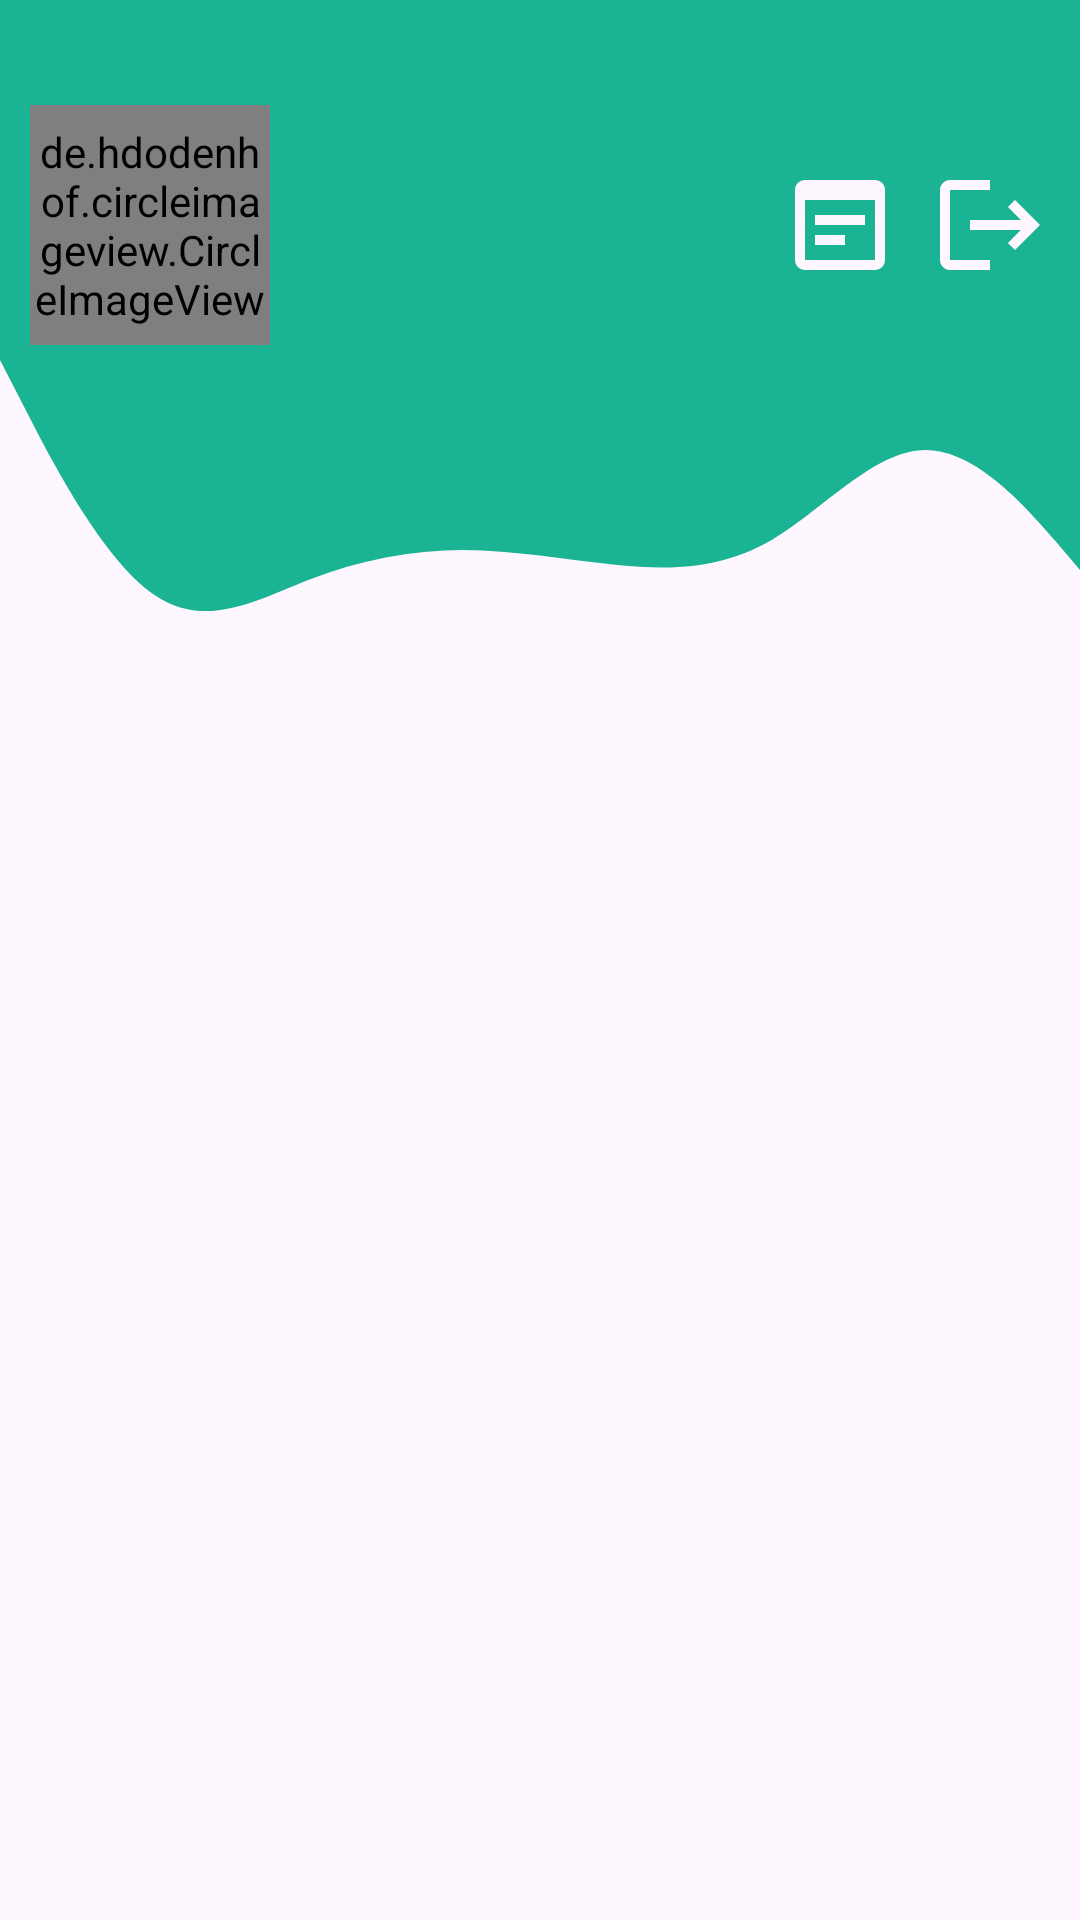

Named icons in this screenshot (1080*1920) and their bounding boxes, (x1, y1, x2, y2):
wysiwyg: (795, 180, 885, 270)
